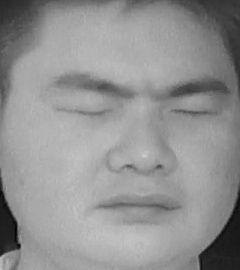blink: (61, 93, 112, 129), (170, 98, 218, 128)
mouth: (93, 182, 184, 231)
